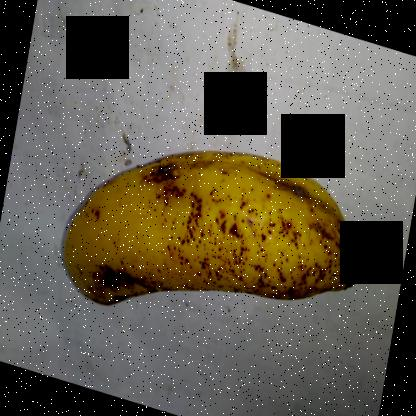rotten: (233, 140, 349, 218), (89, 248, 150, 333), (124, 125, 192, 201)
